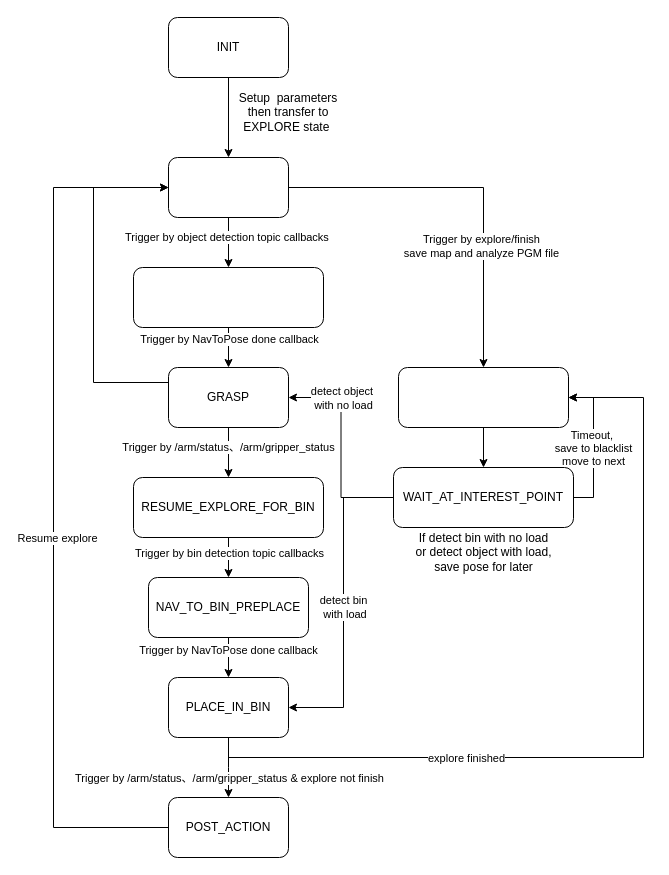
Image size: 669x875. Some labels were removed from this diagram. Here are the shapes that lost their labels. From the top down, the centre of each, then its label:
At (x=228, y=187): "EXPLORE".
At (x=228, y=297): "NAV_TO_OBJECT_PREGRASP".
At (x=483, y=397): "NAV_TO_INTEREST_POINT".
